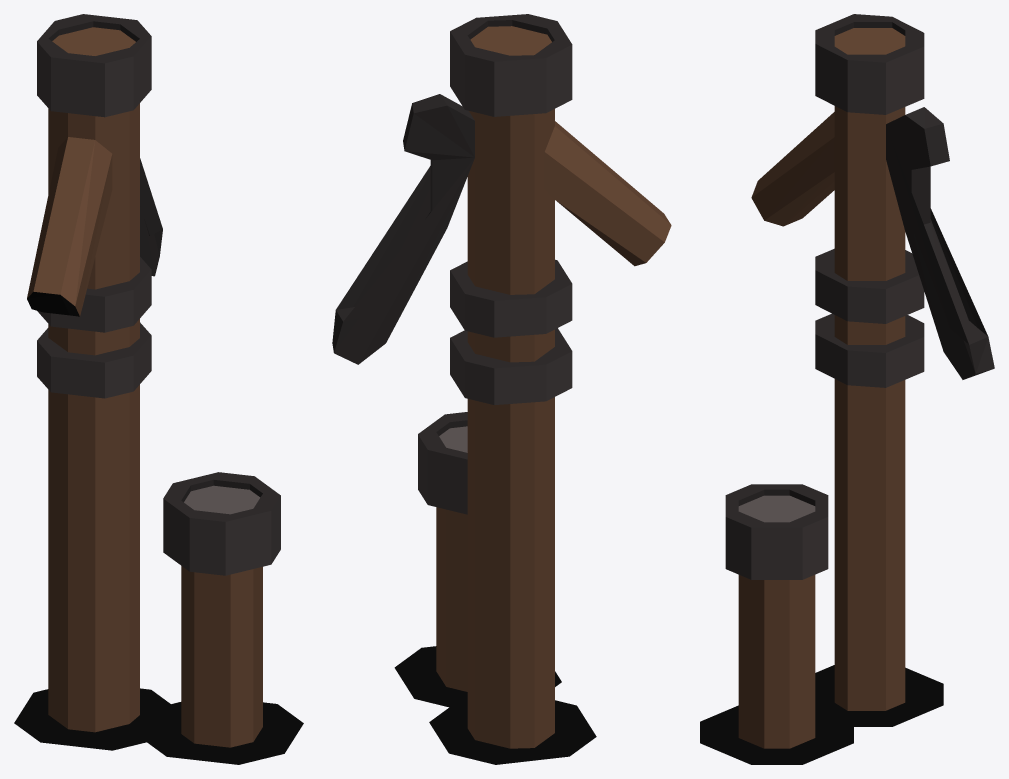
The model's file is obj_bath_pipes_0.obj.
3 views of the same model, side by side, from view 1: azimuth 30°, elevation 25°; view 2: azimuth 150°, elevation 25°; view 3: azimuth 270°, elevation 25° (orthographic). The views are drawn at different scales.
Size of the model in its own units: 0.7031 by 1.77 by 0.7188.
